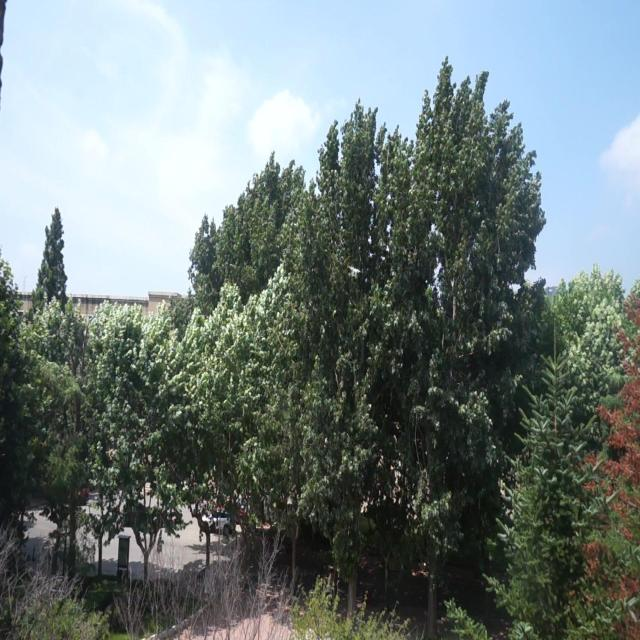drone: (346, 263, 362, 281)
